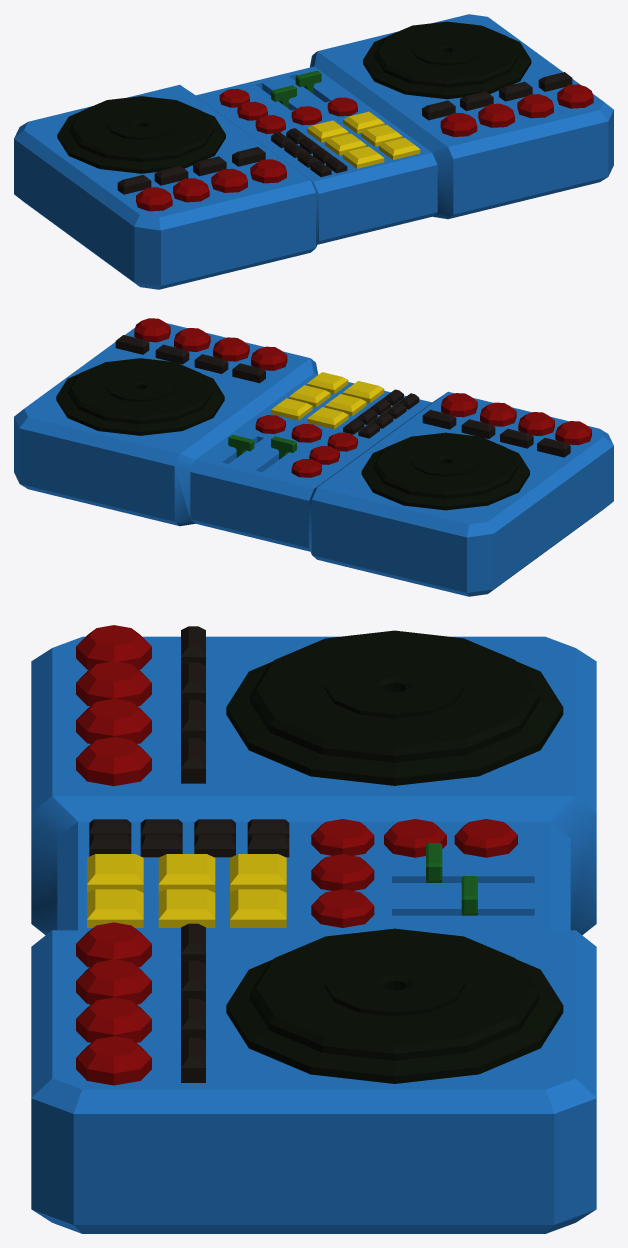
Rendered from DJ console.FBX.
The picture shows the model from 3 angles, top to bottom: view 1: azimuth 30°, elevation 25°; view 2: azimuth 150°, elevation 25°; view 3: azimuth 270°, elevation 25°; orthographic projection. The views are drawn at different scales.
Parts seen in each view (by area): view 1: DJ console; view 2: DJ console; view 3: DJ console.
Part boxes in pixels (x1,y1,x2,y2): DJ console: [14, 14, 613, 289]; DJ console: [14, 318, 613, 596]; DJ console: [31, 625, 596, 1233].
Size of the model in its own units: 1155 by 589 by 200.
